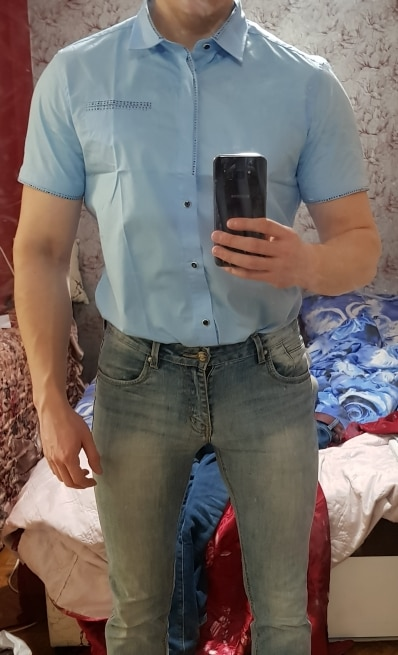shirts: (26, 25, 364, 341)
